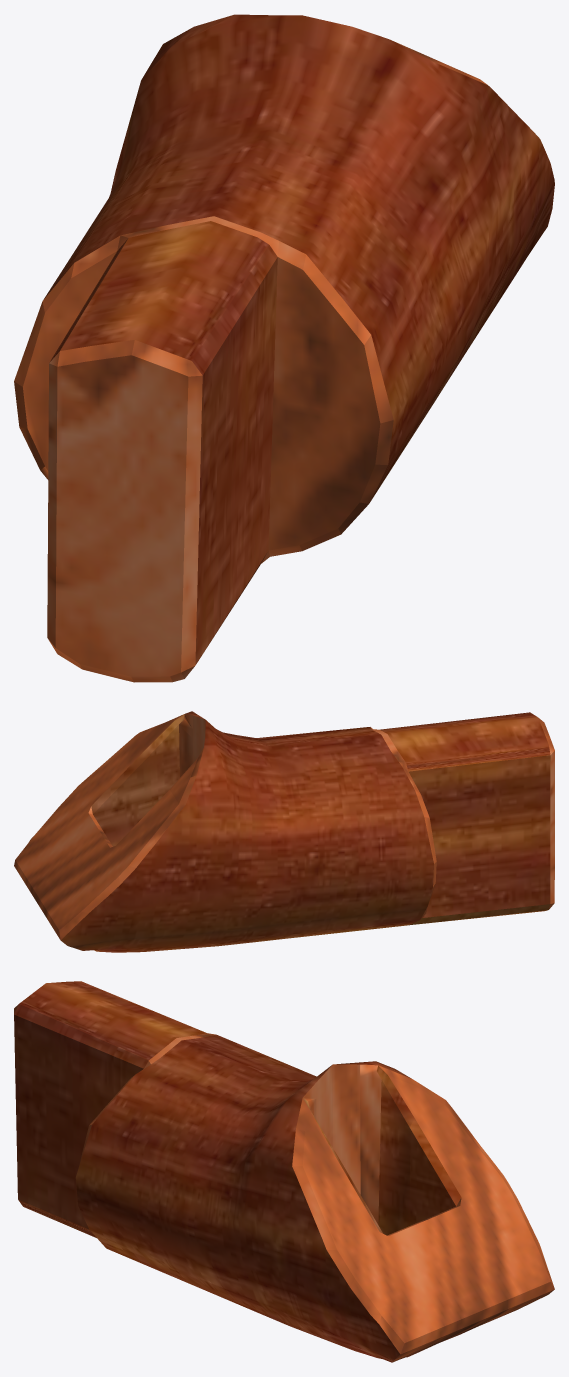
The model's file is ytsy_J_henggan_018.FBX.
3 views of the same model, one above another, from view 1: azimuth 30°, elevation 25°; view 2: azimuth 150°, elevation 25°; view 3: azimuth 270°, elevation 25° (orthographic). The views are drawn at different scales.
Parts seen in each view (by area): view 1: ytsy_J_henggan_018; view 2: ytsy_J_henggan_018; view 3: ytsy_J_henggan_018.
Boxes of the visible parts, <box> form: ytsy_J_henggan_018: <box>14,14,554,682</box>; ytsy_J_henggan_018: <box>14,711,554,952</box>; ytsy_J_henggan_018: <box>14,981,554,1362</box>.
Bounding box in the file's own units: 4.43 × 2.3 × 4.33.
